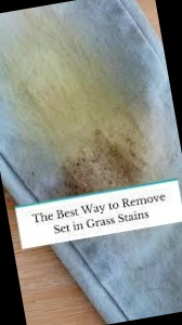earth: (1, 28, 155, 201)
